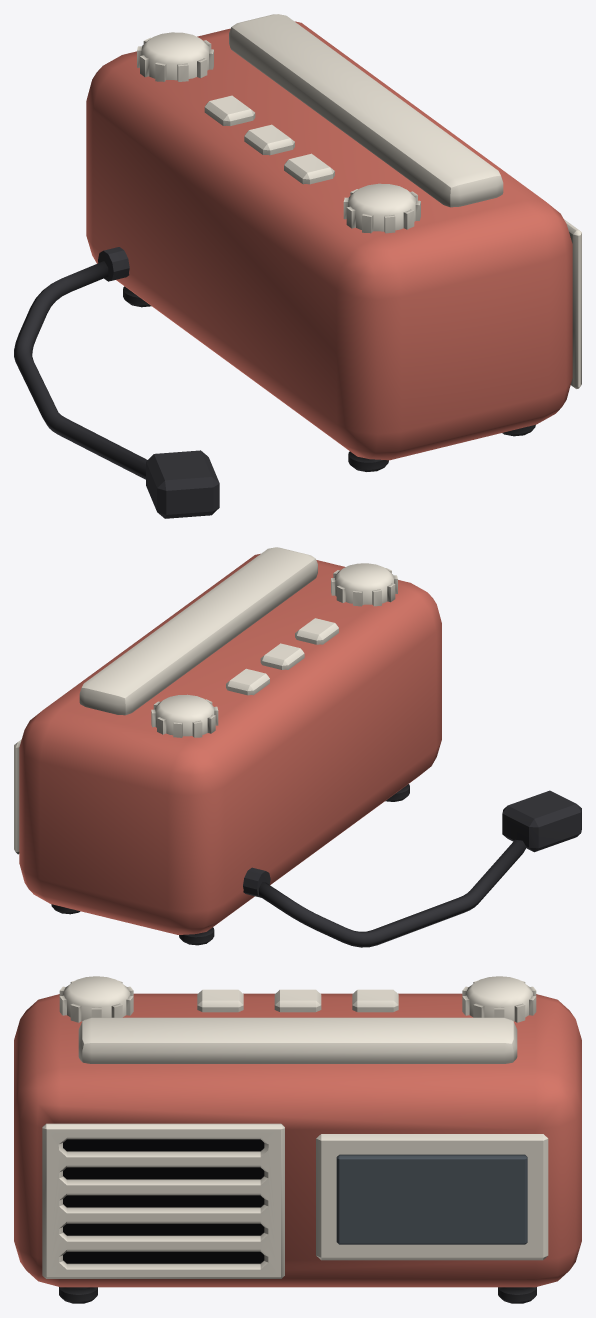
The model's file is junk_clockradio.glb.
3 views of the same model, one above another, from view 1: azimuth 30°, elevation 25°; view 2: azimuth 150°, elevation 25°; view 3: azimuth 270°, elevation 25° (orthographic). The views are drawn at different scales.
Parts seen in each view (by area): view 1: PART; view 2: PART; view 3: PART.
Part boxes in pixels (left/top/right/bottom): PART: left=14, top=14, right=581, bottom=518; PART: left=14, top=547, right=581, bottom=947; PART: left=14, top=976, right=581, bottom=1303.
Size of the model in its own units: 0.1811 by 0.108 by 0.22.
